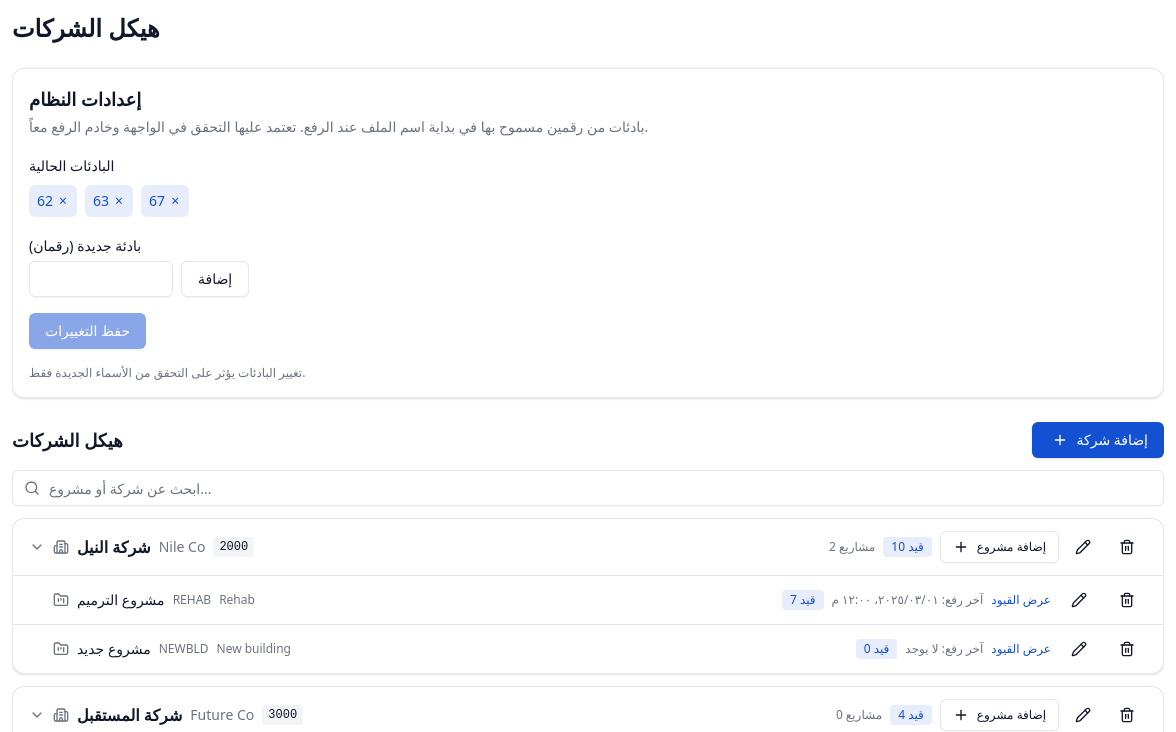
Test: AdminStructurePage › company header collapses and re-expands its projects
The image size is (1176, 732).
Expected: the text "مشروع الترميم" is shown, [77,590,165,610]
Click the button "شركة النيل Nile Co 2000 2 مشاريع 10 قيد" at (114, 547), box [29,535,932,559]
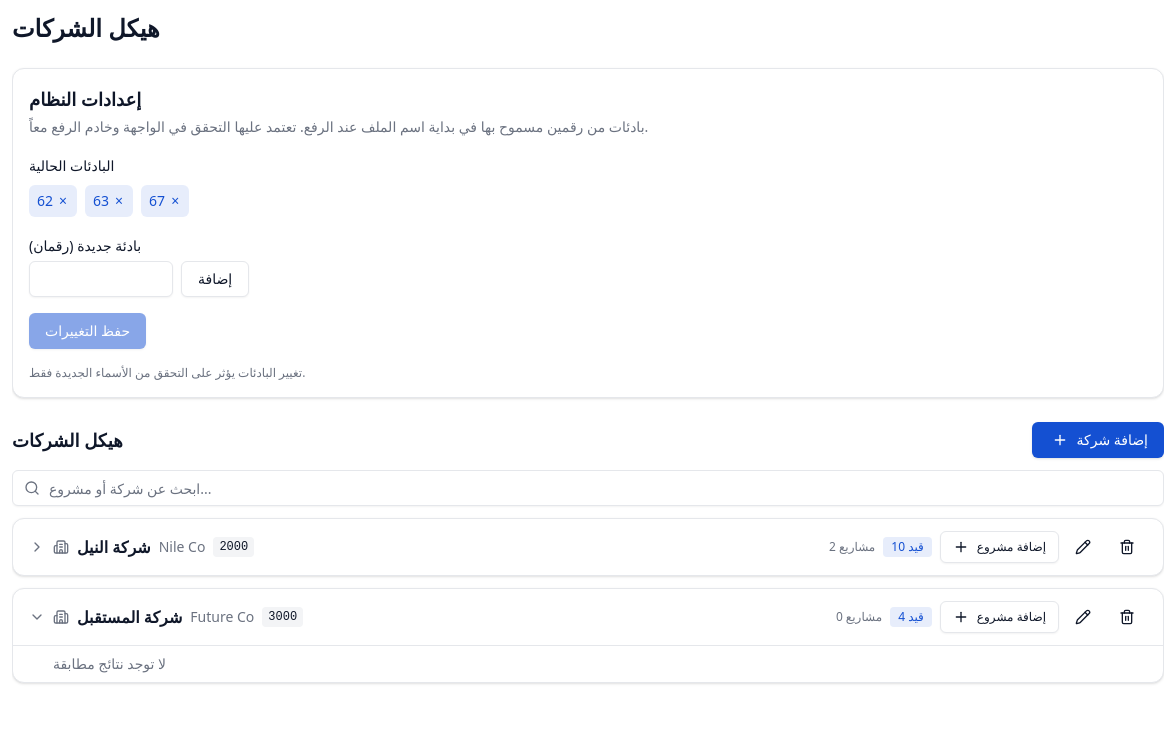
Expected: the text "شركة النيل" is shown, [77,535,151,559]
Now the text "مشروع الترميم" is gone
Click the button "شركة النيل Nile Co 2000 2 مشاريع 10 قيد" at (114, 547), box [29,535,932,559]
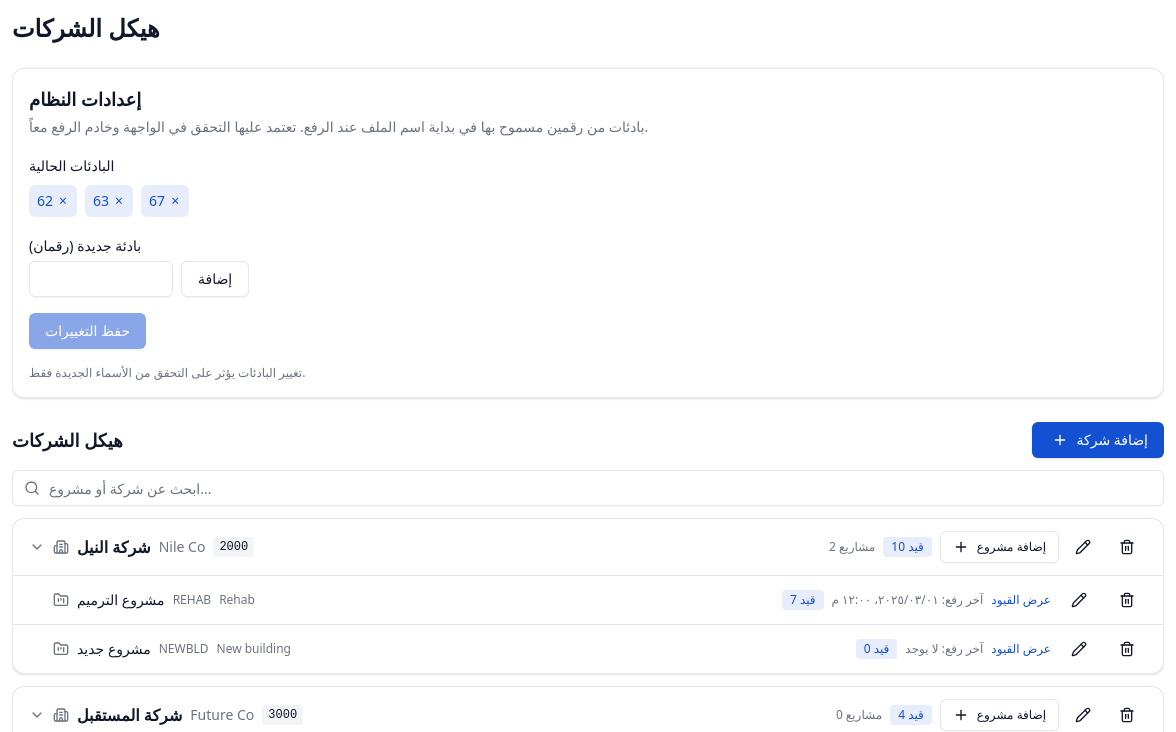
Now the text "مشروع الترميم" is shown, box [77,590,165,610]
